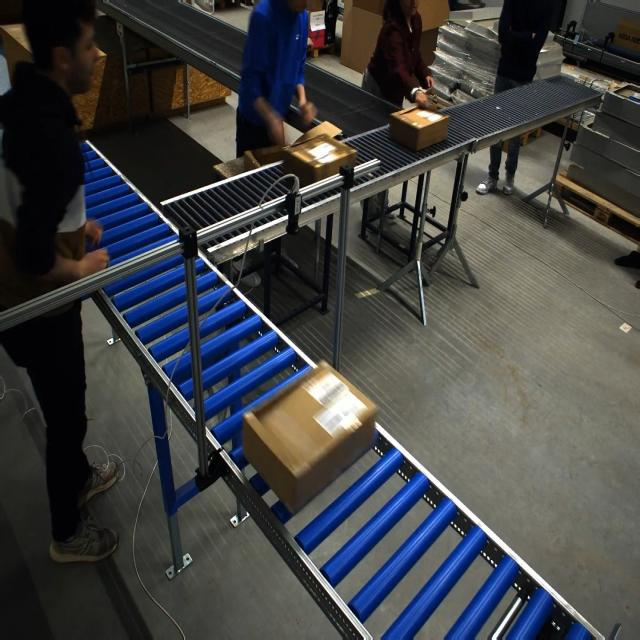box: (244, 364, 368, 509), (272, 133, 368, 196), (388, 106, 449, 153)
